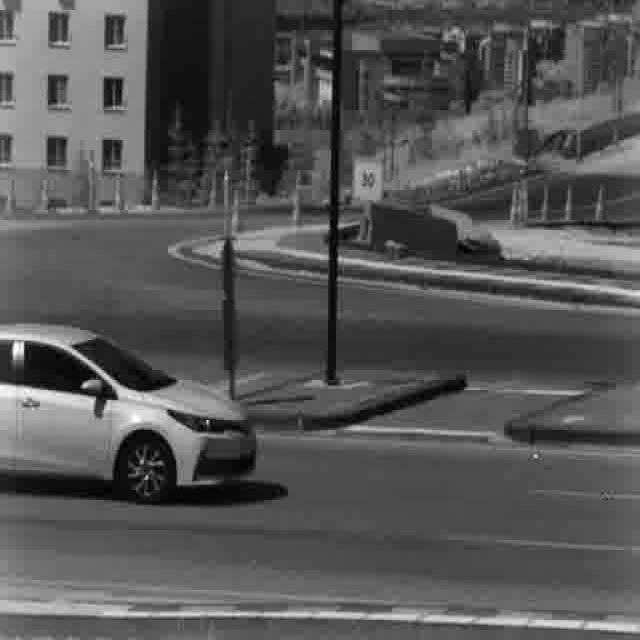Car: (0, 321, 260, 503)
